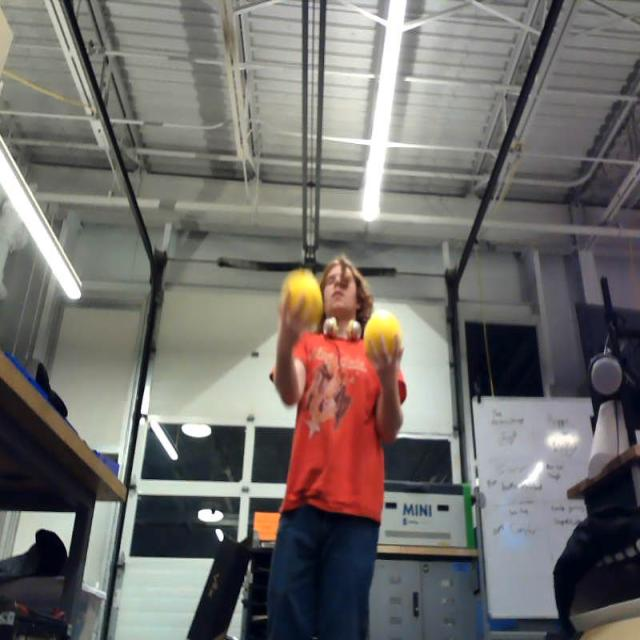Fuel: (364, 309, 402, 362), (286, 273, 322, 325)
